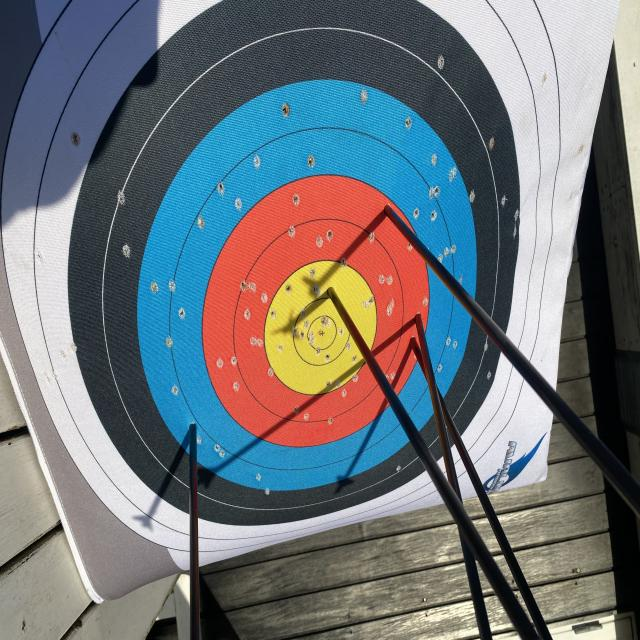Arrow_Blue: (177, 412, 211, 447)
Arrow_Red: (374, 193, 402, 235), (401, 333, 426, 359), (411, 304, 432, 332)
Arrow_Yellow: (313, 274, 341, 307)
